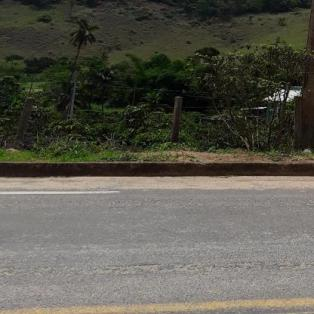Poste: (290, 0, 314, 153)
